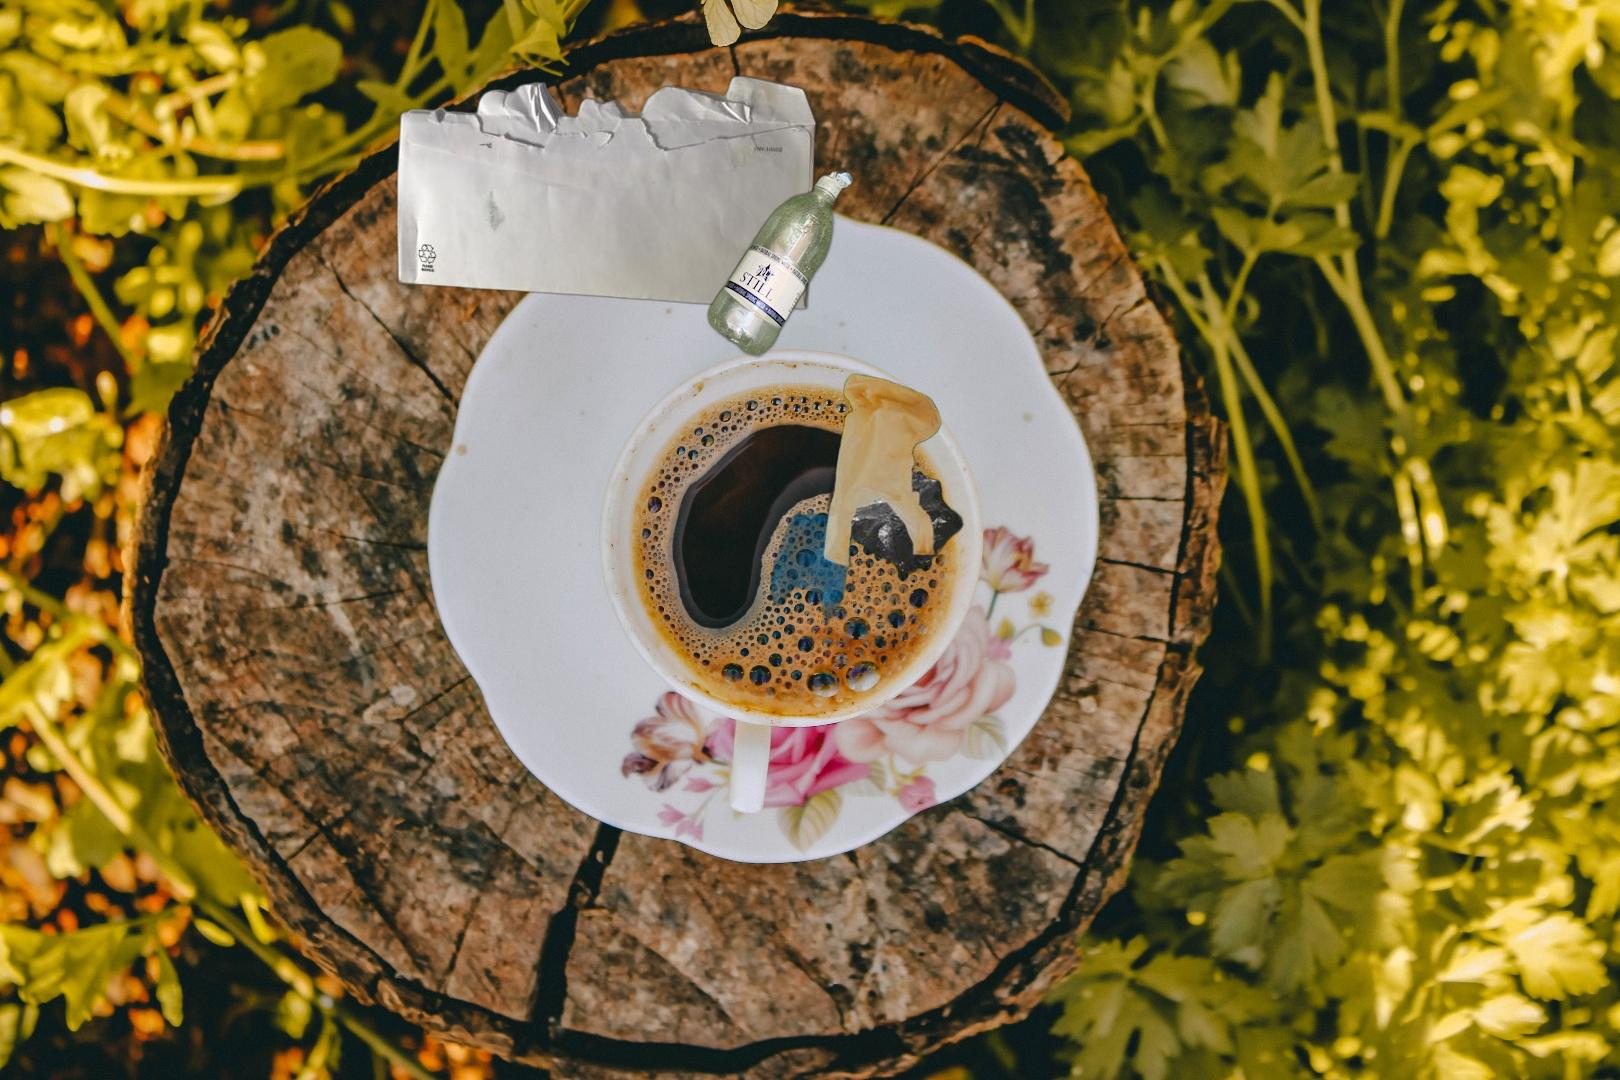paper: (392, 74, 821, 312)
plastic-bag: (765, 372, 965, 639)
plastic-bottles: (703, 164, 958, 485)
